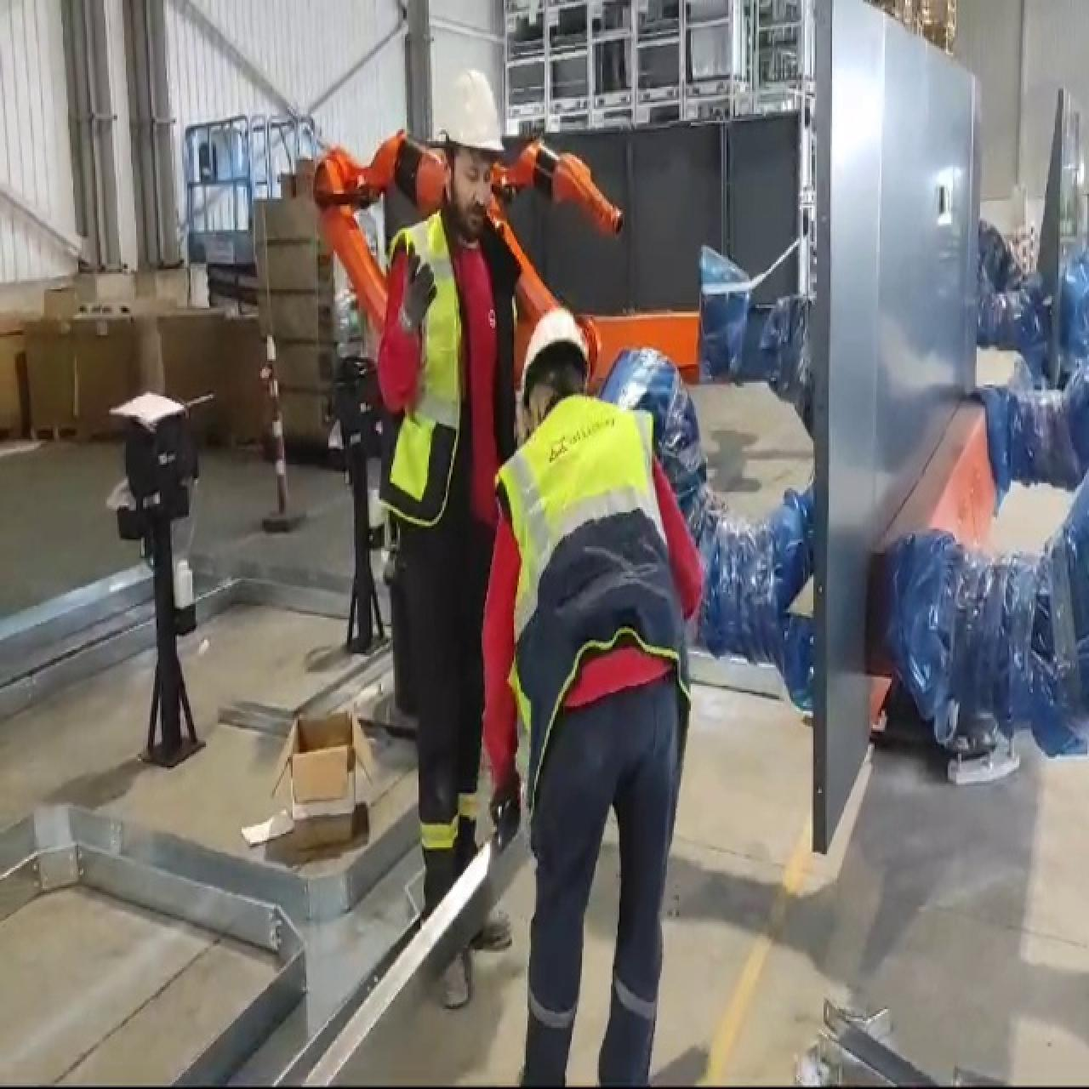Person: (465, 278, 738, 1089), (359, 44, 562, 918)
Safety_Vest: (489, 394, 699, 806), (376, 207, 529, 545)
